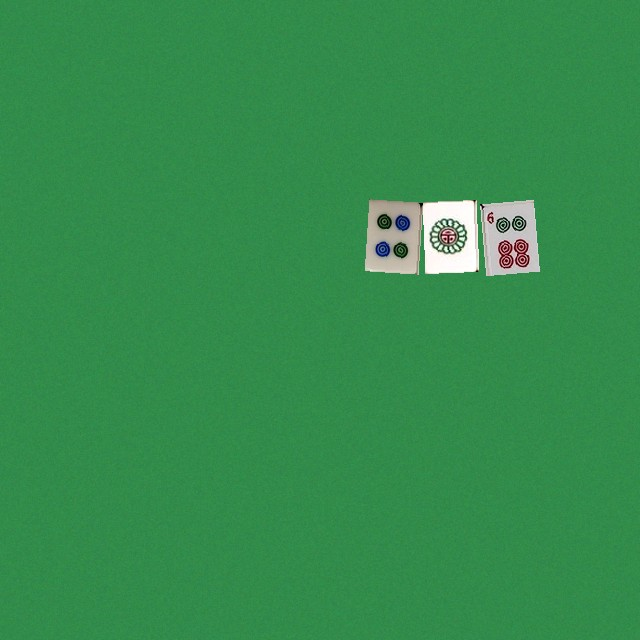tile: (364, 199, 418, 271), (422, 199, 476, 271), (480, 199, 534, 271)
